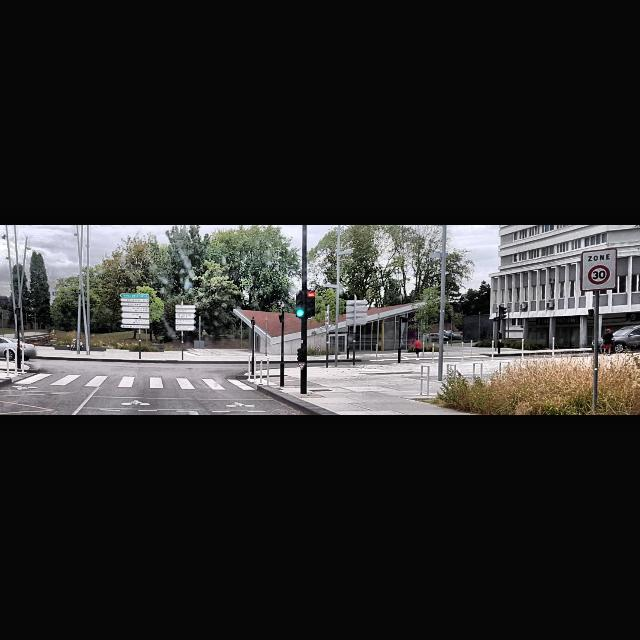speed_30: (588, 266, 610, 284)
